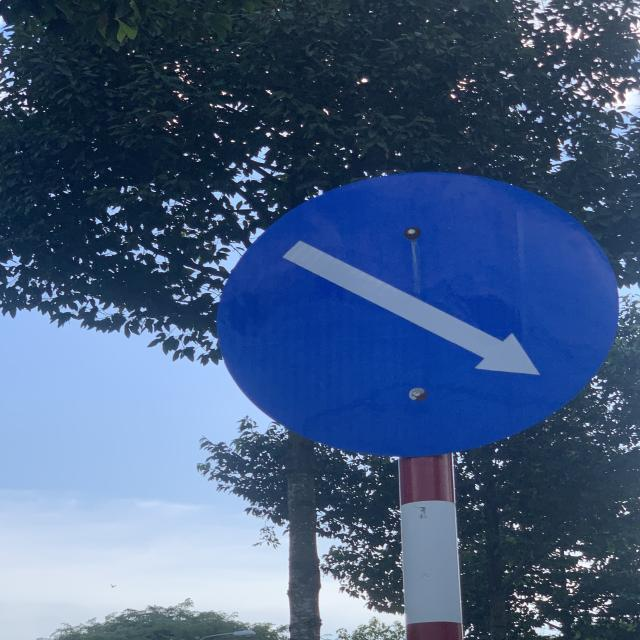Chi_Huong_Di_Phai: (221, 172, 619, 458)
